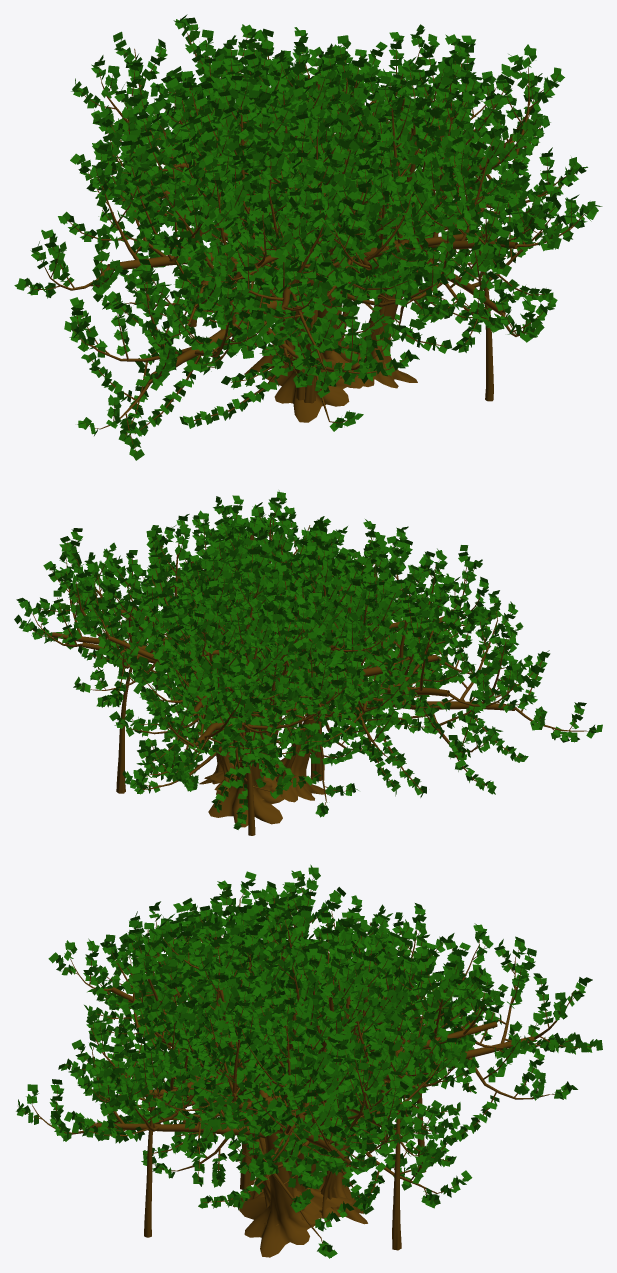
The model's file is tree02.fbx.
3 renders of one model, top to bottom at view 1: azimuth 30°, elevation 25°; view 2: azimuth 150°, elevation 25°; view 3: azimuth 270°, elevation 25°, orthographic. The views are drawn at different scales.
Visible parts, largest first — view 1: Foliage001; view 2: Foliage001; view 3: Foliage001.
Boxes of the visible parts, x1,y1,x2,y2 form: Foliage001: (14, 14, 602, 460); Foliage001: (14, 490, 602, 835); Foliage001: (16, 864, 602, 1258).
Size of the model in its own units: 1322 by 730 by 1263.
